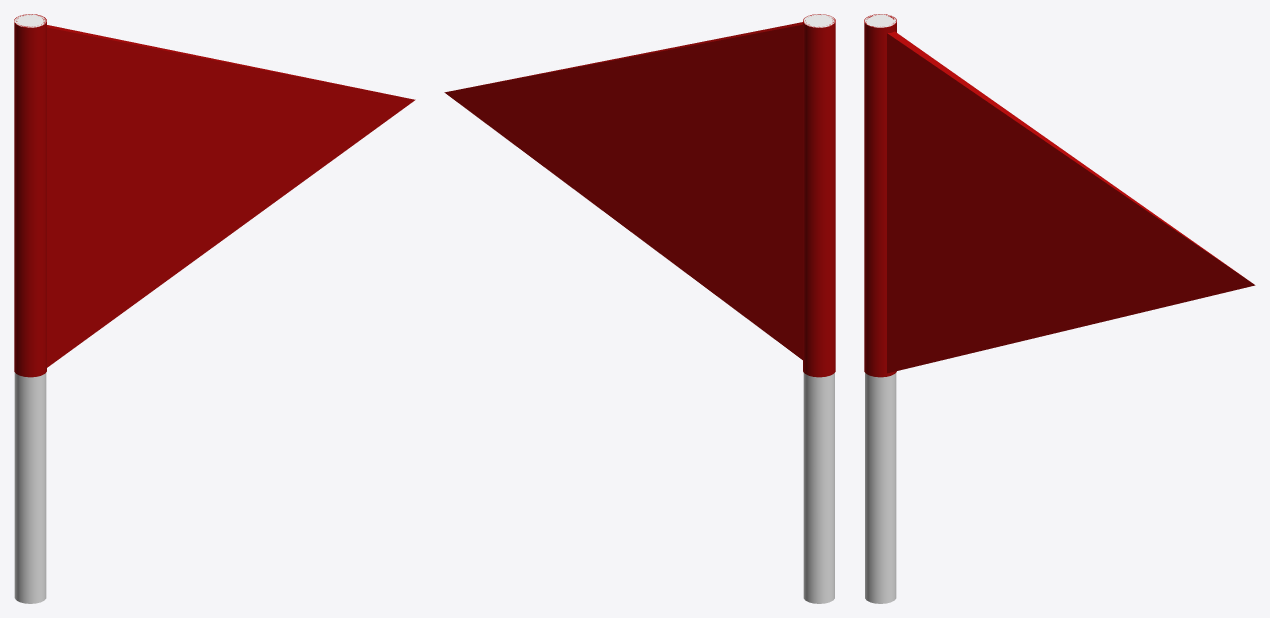
The model's file is Flag.fbx.
3 views of the same model, side by side, from view 1: azimuth 30°, elevation 25°; view 2: azimuth 150°, elevation 25°; view 3: azimuth 330°, elevation 25° (orthographic).
Parts seen in each view (by area): view 1: 旗子面, 棍子; view 2: 旗子面, 棍子; view 3: 旗子面, 棍子.
Boxes of the visible parts, x1,y1,x2,y2 form: 旗子面: (14, 14, 415, 377); 棍子: (14, 14, 46, 603); 旗子面: (444, 14, 835, 377); 棍子: (803, 14, 834, 603); 旗子面: (864, 14, 1255, 377); 棍子: (865, 14, 896, 603).
Bounding box in the file's own units: 14.24 × 19.88 × 1.02.
